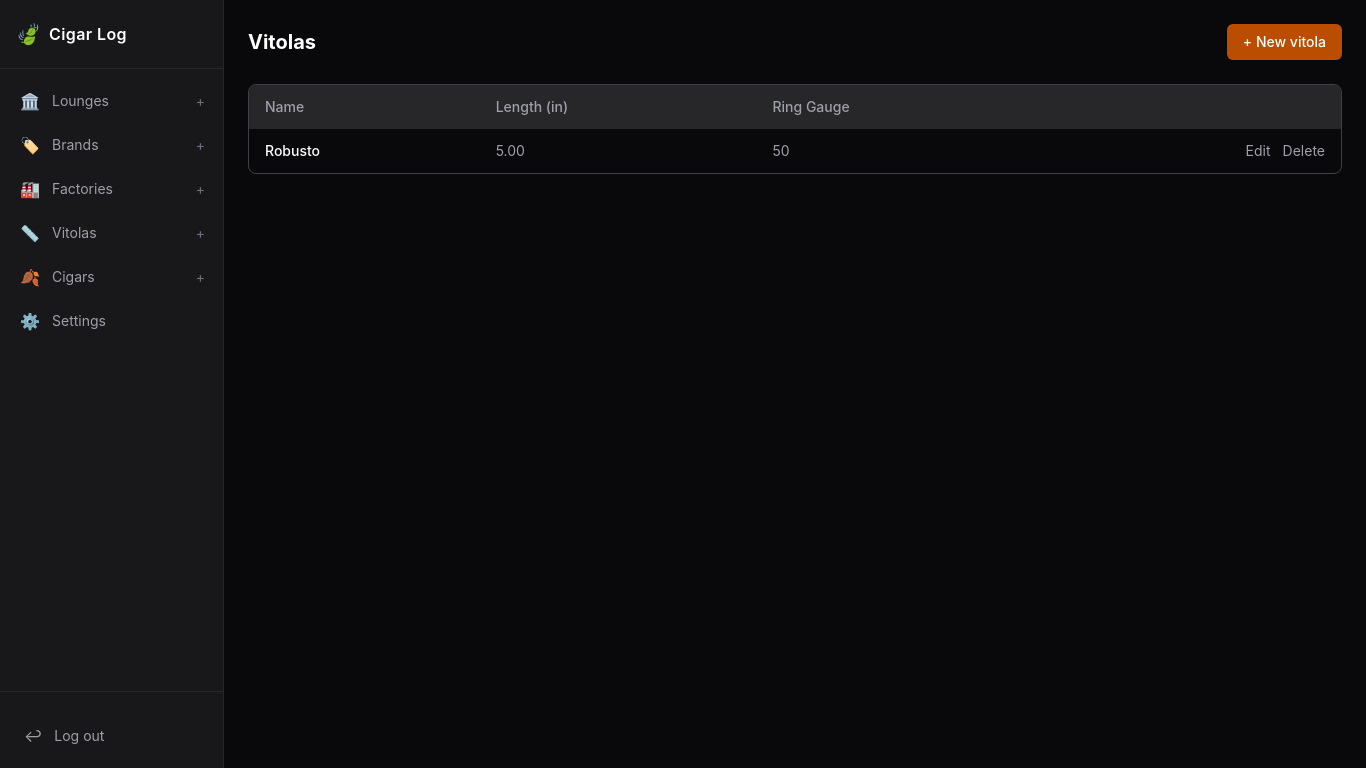
Scenario: VitolasPage › opens create modal when New vitola is clicked
This screenshot has width=1366, height=768.
Click the button "+ New vitola" at (1284, 42), box [1227,24,1342,60]
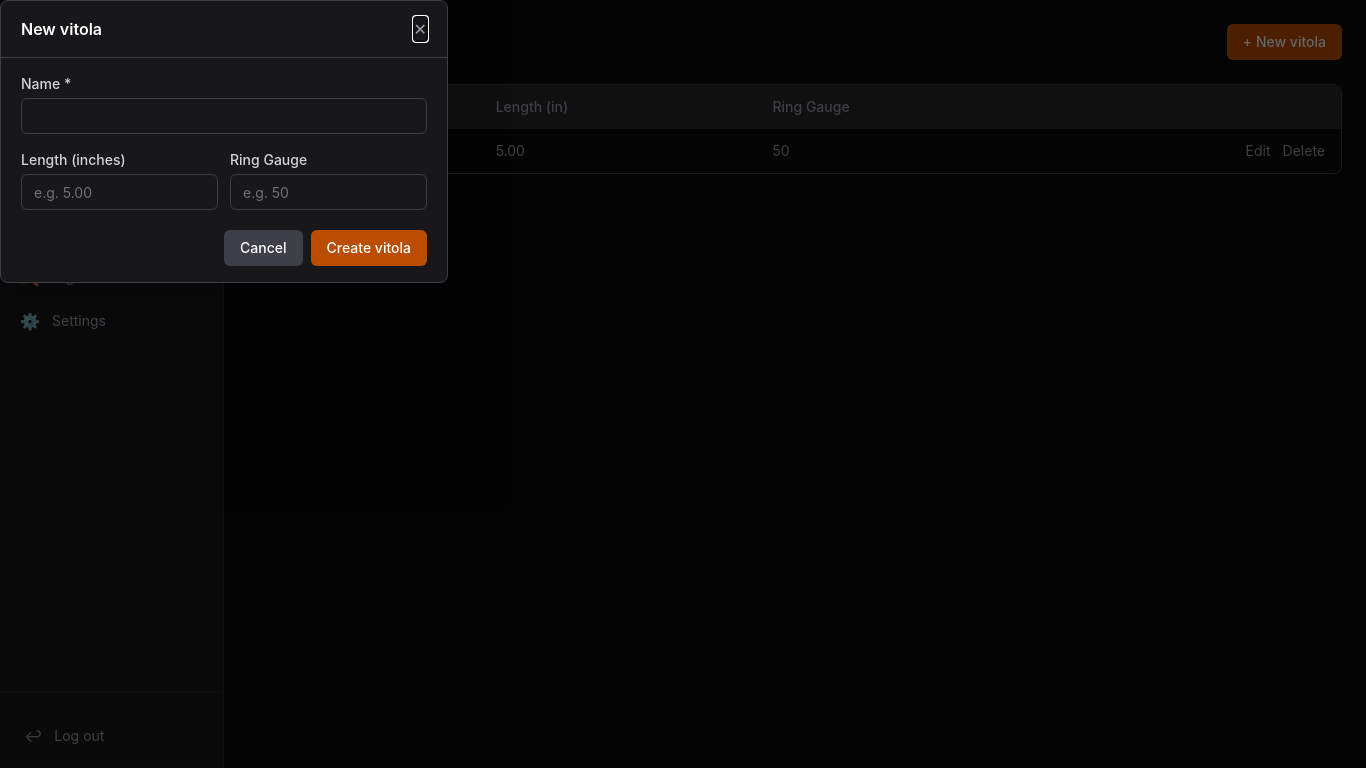
expect the heading "New vitola" is shown: met, box [21,17,102,41]
expect the 1st field is shown: met, box [21,98,427,134]
